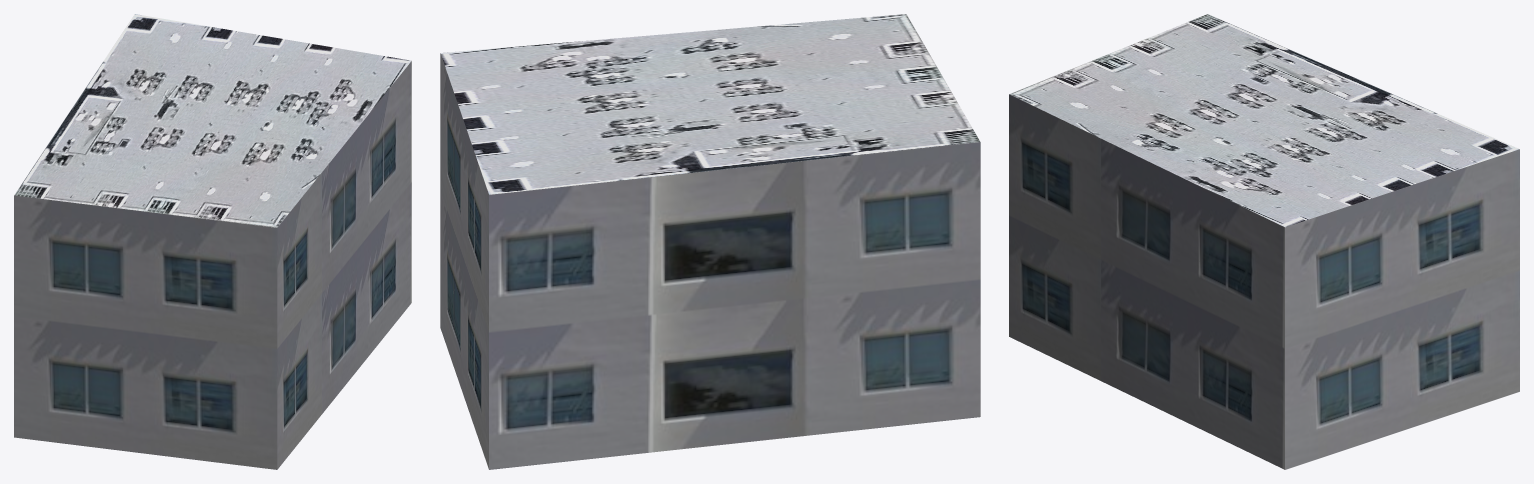
Rendered from ResTex__2810.fbx.
3 views of the same model, side by side, from view 1: azimuth 30°, elevation 25°; view 2: azimuth 150°, elevation 25°; view 3: azimuth 270°, elevation 25° (orthographic). The views are drawn at different scales.
Visible parts, largest first — view 1: CityEngineMaterial_10_m, CityEngineMaterial_2_m; view 2: CityEngineMaterial_10_m, CityEngineMaterial_2_m; view 3: CityEngineMaterial_10_m, CityEngineMaterial_2_m.
Boxes of the visible parts, <box> form: CityEngineMaterial_10_m: <box>14,61,411,469</box>; CityEngineMaterial_2_m: <box>14,14,411,227</box>; CityEngineMaterial_10_m: <box>440,53,980,469</box>; CityEngineMaterial_2_m: <box>440,14,980,194</box>; CityEngineMaterial_10_m: <box>1009,94,1519,469</box>; CityEngineMaterial_2_m: <box>1009,14,1519,227</box>.
Bounding box in the file's own units: 11.32 × 6 × 11.45.
Materials: 2 (2 with a texture image).
